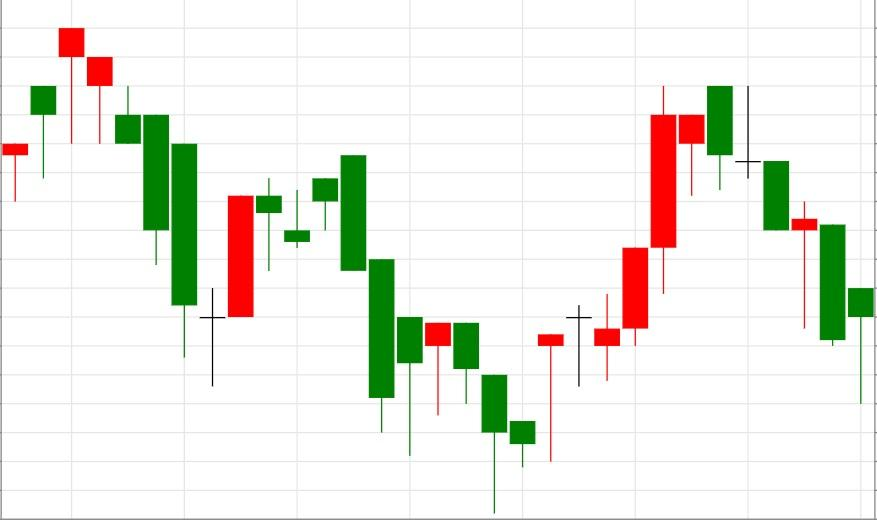hanging_man_fall: (0, 28, 85, 200)
morning_star_rise: (59, 28, 254, 386)
